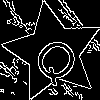Q: (28, 27, 90, 89)
